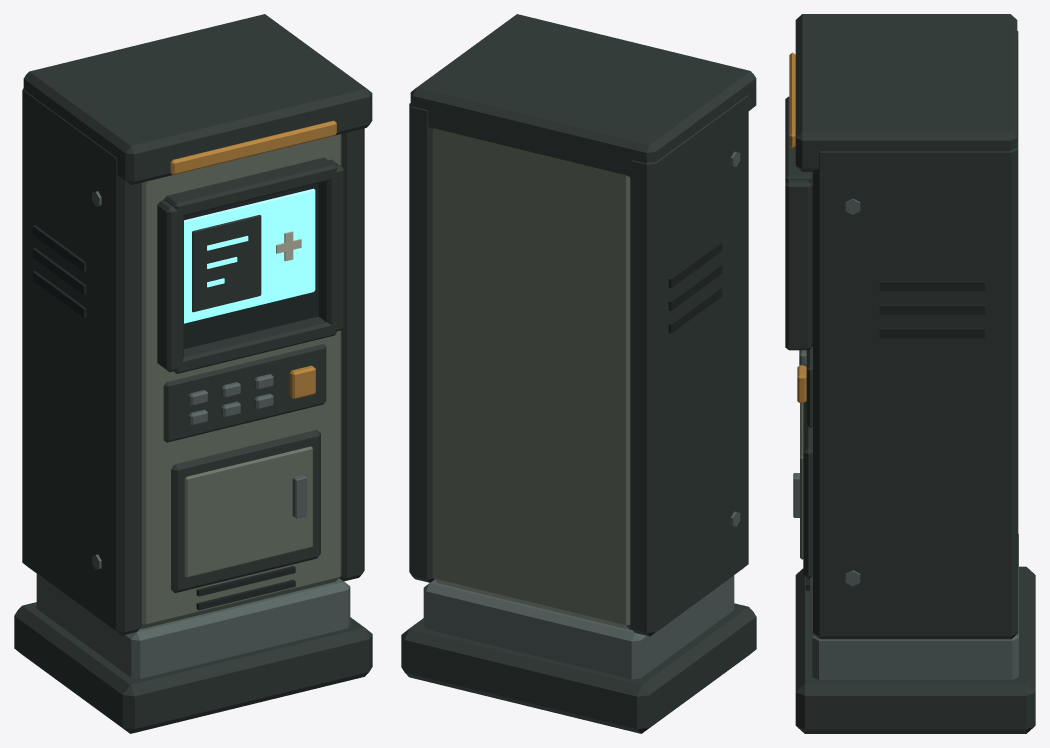
Rendered from SupplyTerminal.glb.
3 views of the same model, side by side, from view 1: azimuth 30°, elevation 25°; view 2: azimuth 150°, elevation 25°; view 3: azimuth 270°, elevation 25° (orthographic). The views are drawn at different scales.
Parts seen in each view (by area): view 1: SupplyTerminal; view 2: SupplyTerminal; view 3: SupplyTerminal.
Boxes of the visible parts, <box> form: SupplyTerminal: <box>14,14,372,733</box>; SupplyTerminal: <box>401,14,756,733</box>; SupplyTerminal: <box>785,14,1035,733</box>.
Bounding box in the file's own units: 0.822 × 1.8 × 0.678.
Materials: 1 (1 with a texture image).
